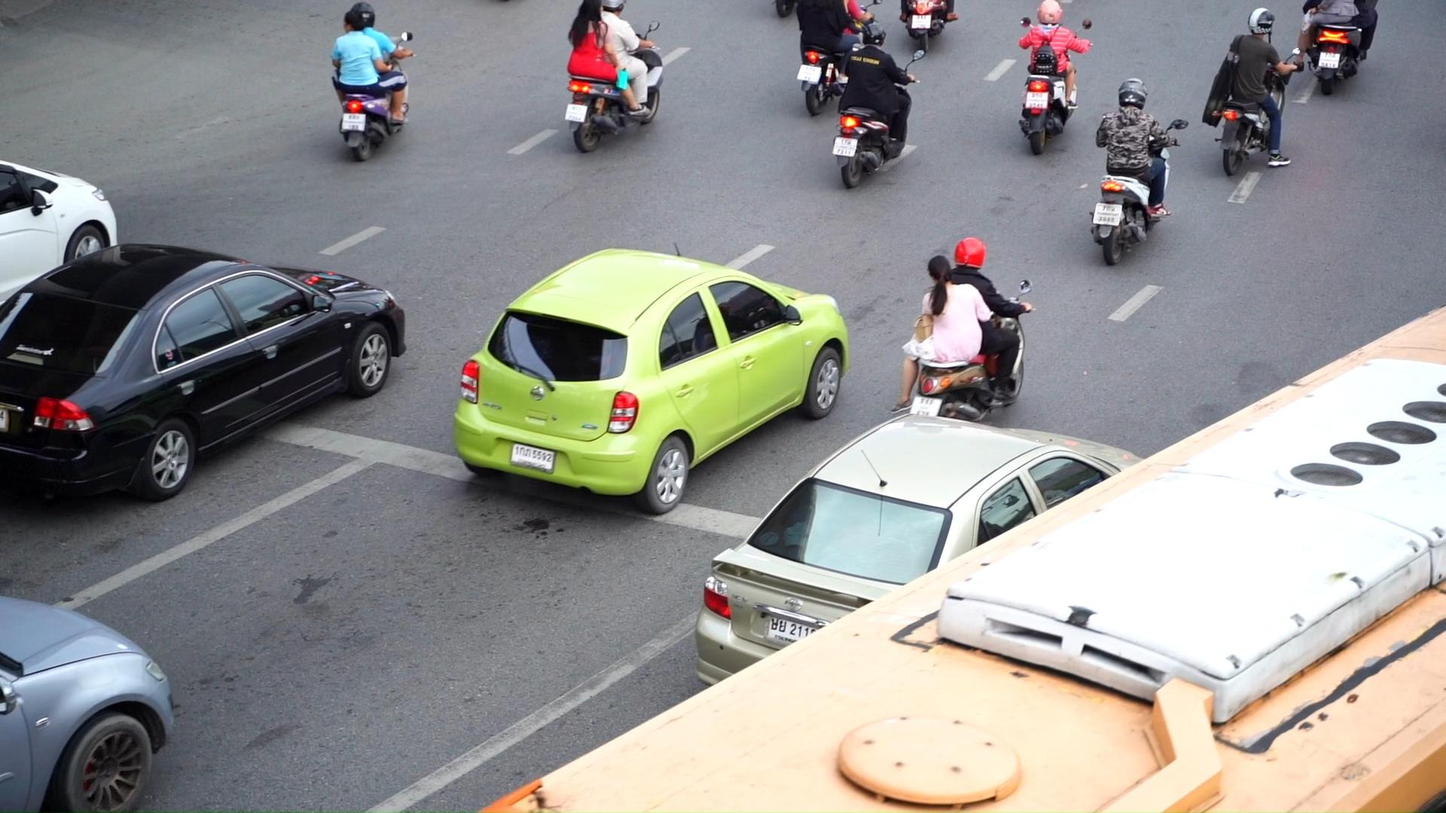driver: (890, 237, 1036, 423), (1089, 77, 1189, 267), (1202, 7, 1301, 177), (831, 23, 925, 189), (565, 0, 664, 154), (331, 2, 417, 162), (1018, 0, 1094, 156), (796, 0, 883, 117)
helmet: (954, 237, 985, 270), (1119, 77, 1148, 110), (1248, 7, 1275, 35), (1037, 0, 1063, 24), (862, 23, 886, 48), (351, 3, 375, 28), (602, 0, 626, 17)
no-helmet: (928, 255, 951, 285), (343, 11, 364, 33), (578, 0, 602, 18)
